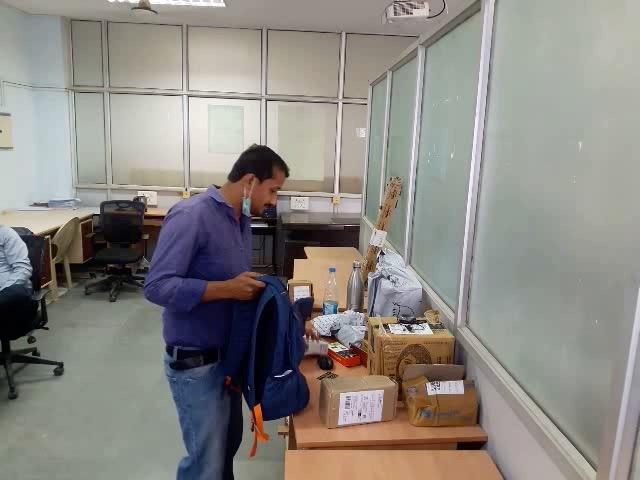shoplifting: (128, 239, 388, 423)
